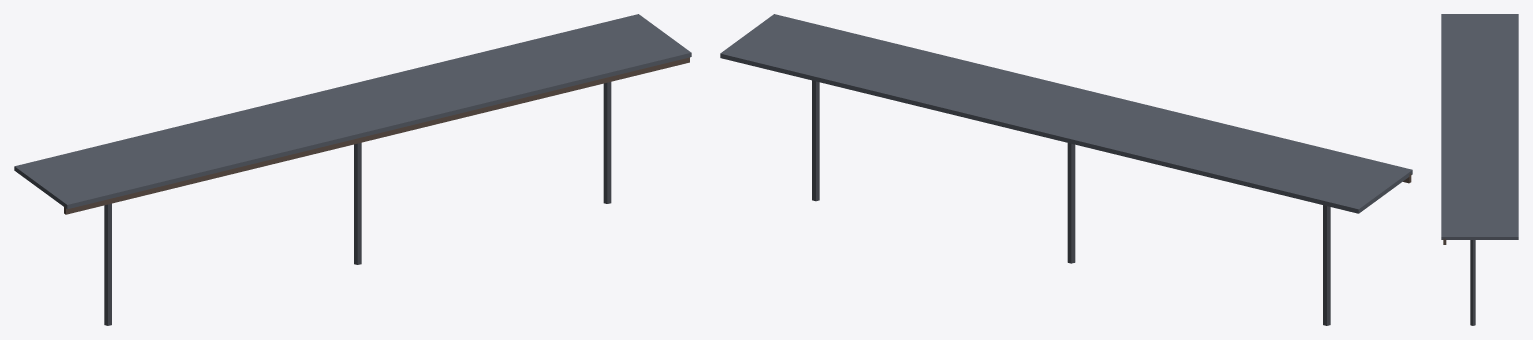
The model's file is marquesina.glb.
3 views of the same model, side by side, from view 1: azimuth 30°, elevation 25°; view 2: azimuth 150°, elevation 25°; view 3: azimuth 270°, elevation 25° (orthographic). The views are drawn at different scales.
Visible parts, largest first — view 1: Marquesina; view 2: Marquesina; view 3: Marquesina.
Boxes of the visible parts, bbox=[...] form: Marquesina: bbox=[14, 14, 691, 325]; Marquesina: bbox=[720, 14, 1412, 325]; Marquesina: bbox=[1441, 14, 1518, 325].
Bounding box in the file's own units: 15 × 3.45 × 2.2.
